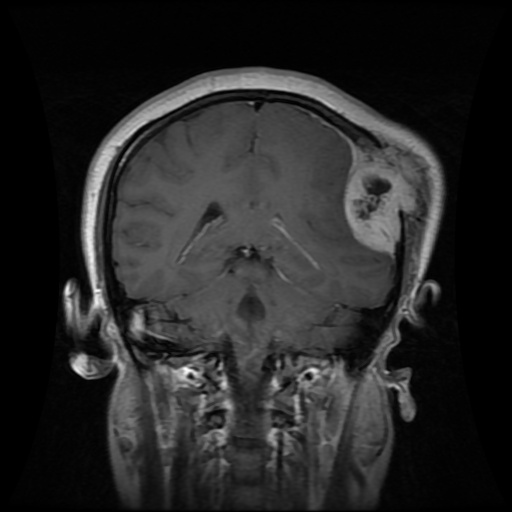meningioma: (343, 146, 417, 251)
